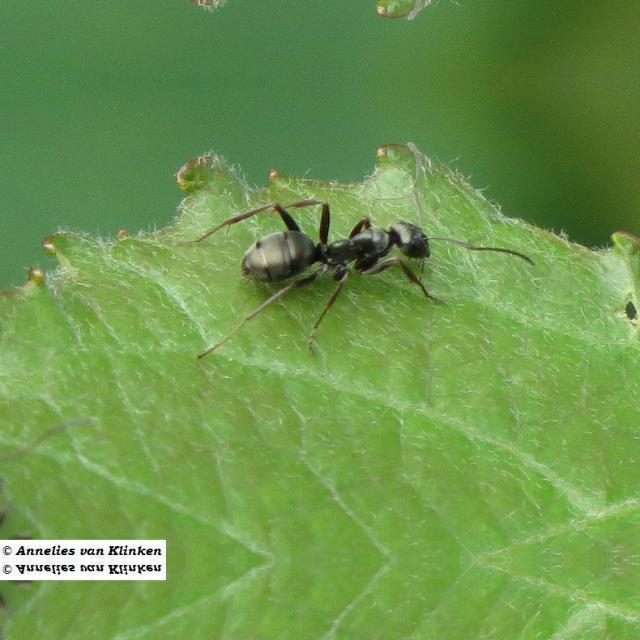Formica: (225, 180, 470, 304)
